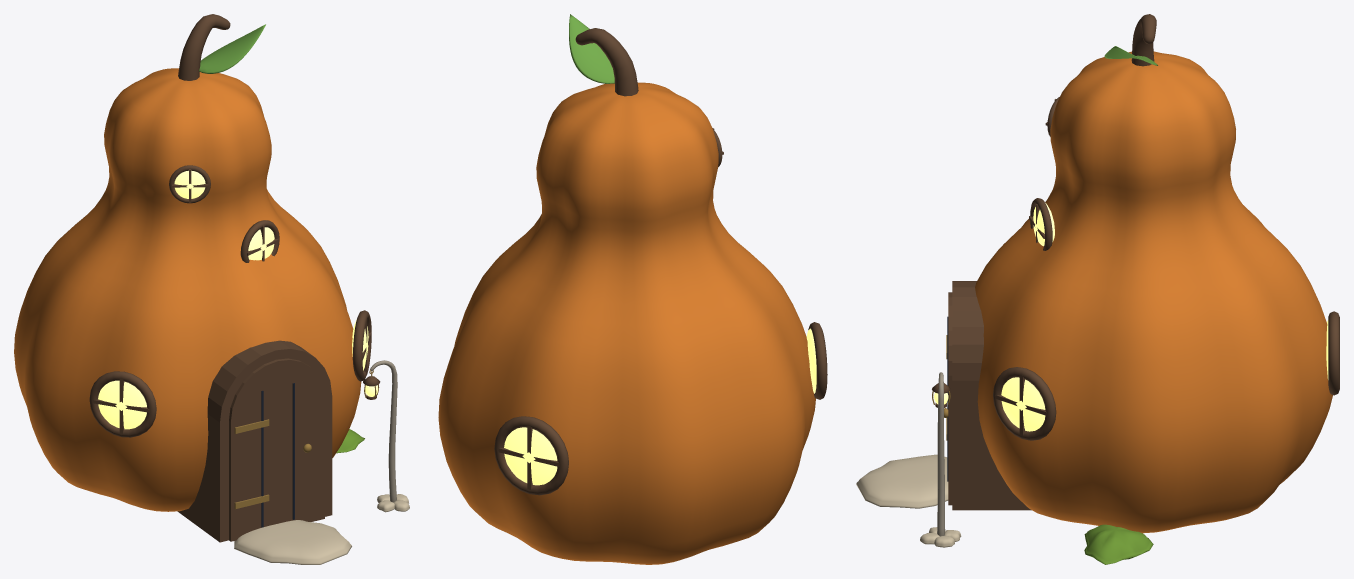
File: sh_gourd_lantern.fbx
The picture shows the model from 3 angles, left to right: view 1: azimuth 30°, elevation 25°; view 2: azimuth 150°, elevation 25°; view 3: azimuth 270°, elevation 25°; orthographic projection. The views are drawn at different scales.
Visible parts, largest first — view 1: SH_Gourd_Lantern; view 2: SH_Gourd_Lantern; view 3: SH_Gourd_Lantern.
Part boxes in pixels (x1=…): SH_Gourd_Lantern: x1=14, y1=14, x2=409, y2=564; SH_Gourd_Lantern: x1=438, y1=14, x2=827, y2=564; SH_Gourd_Lantern: x1=856, y1=14, x2=1339, y2=564.
Bounding box in the file's own units: 140 × 191 × 172.
